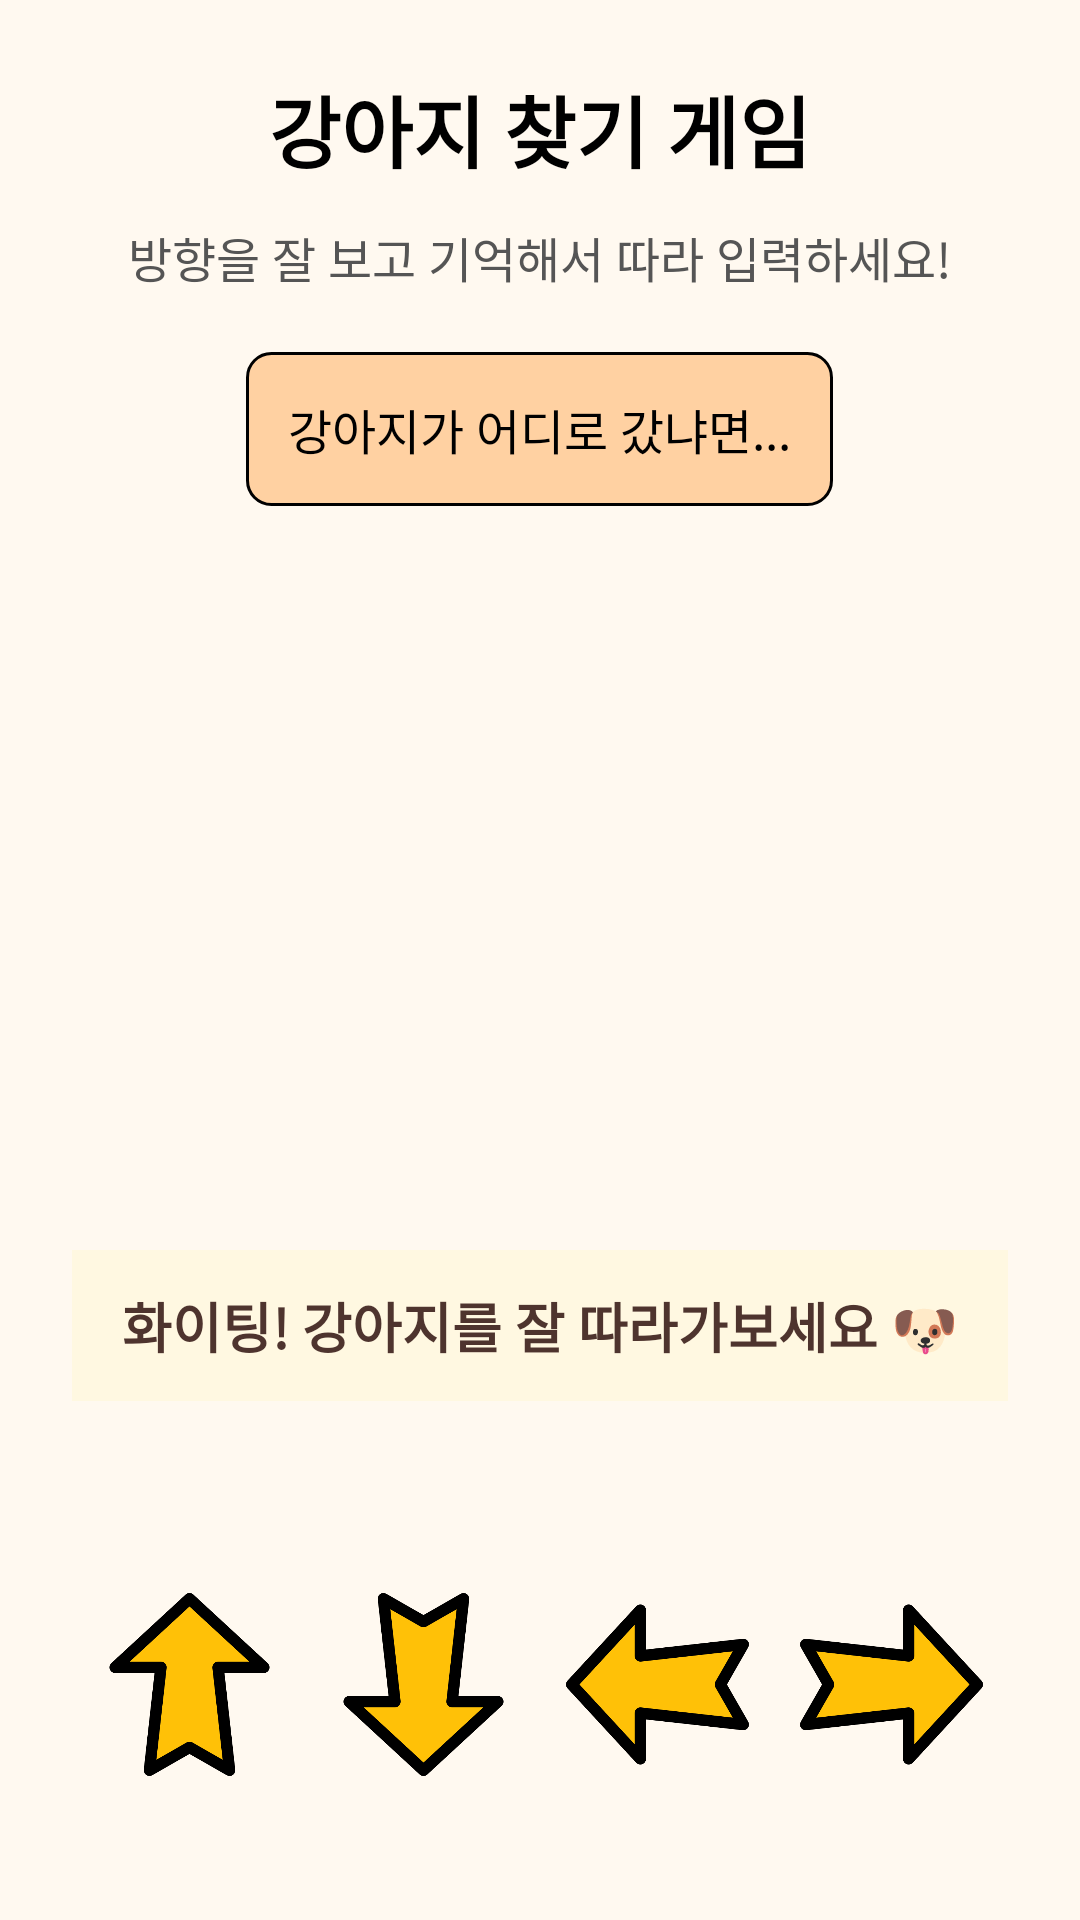

Locate icon controls on the screen. Image size 1080*1920, boxes as (x1=x1, y1=y1, x2=x2, y2=y2).
Down: (x1=343, y1=1593, x2=504, y2=1776)
Left: (x1=566, y1=1604, x2=749, y2=1765)
Right: (x1=800, y1=1604, x2=983, y2=1765)
Up: (x1=109, y1=1593, x2=270, y2=1776)
